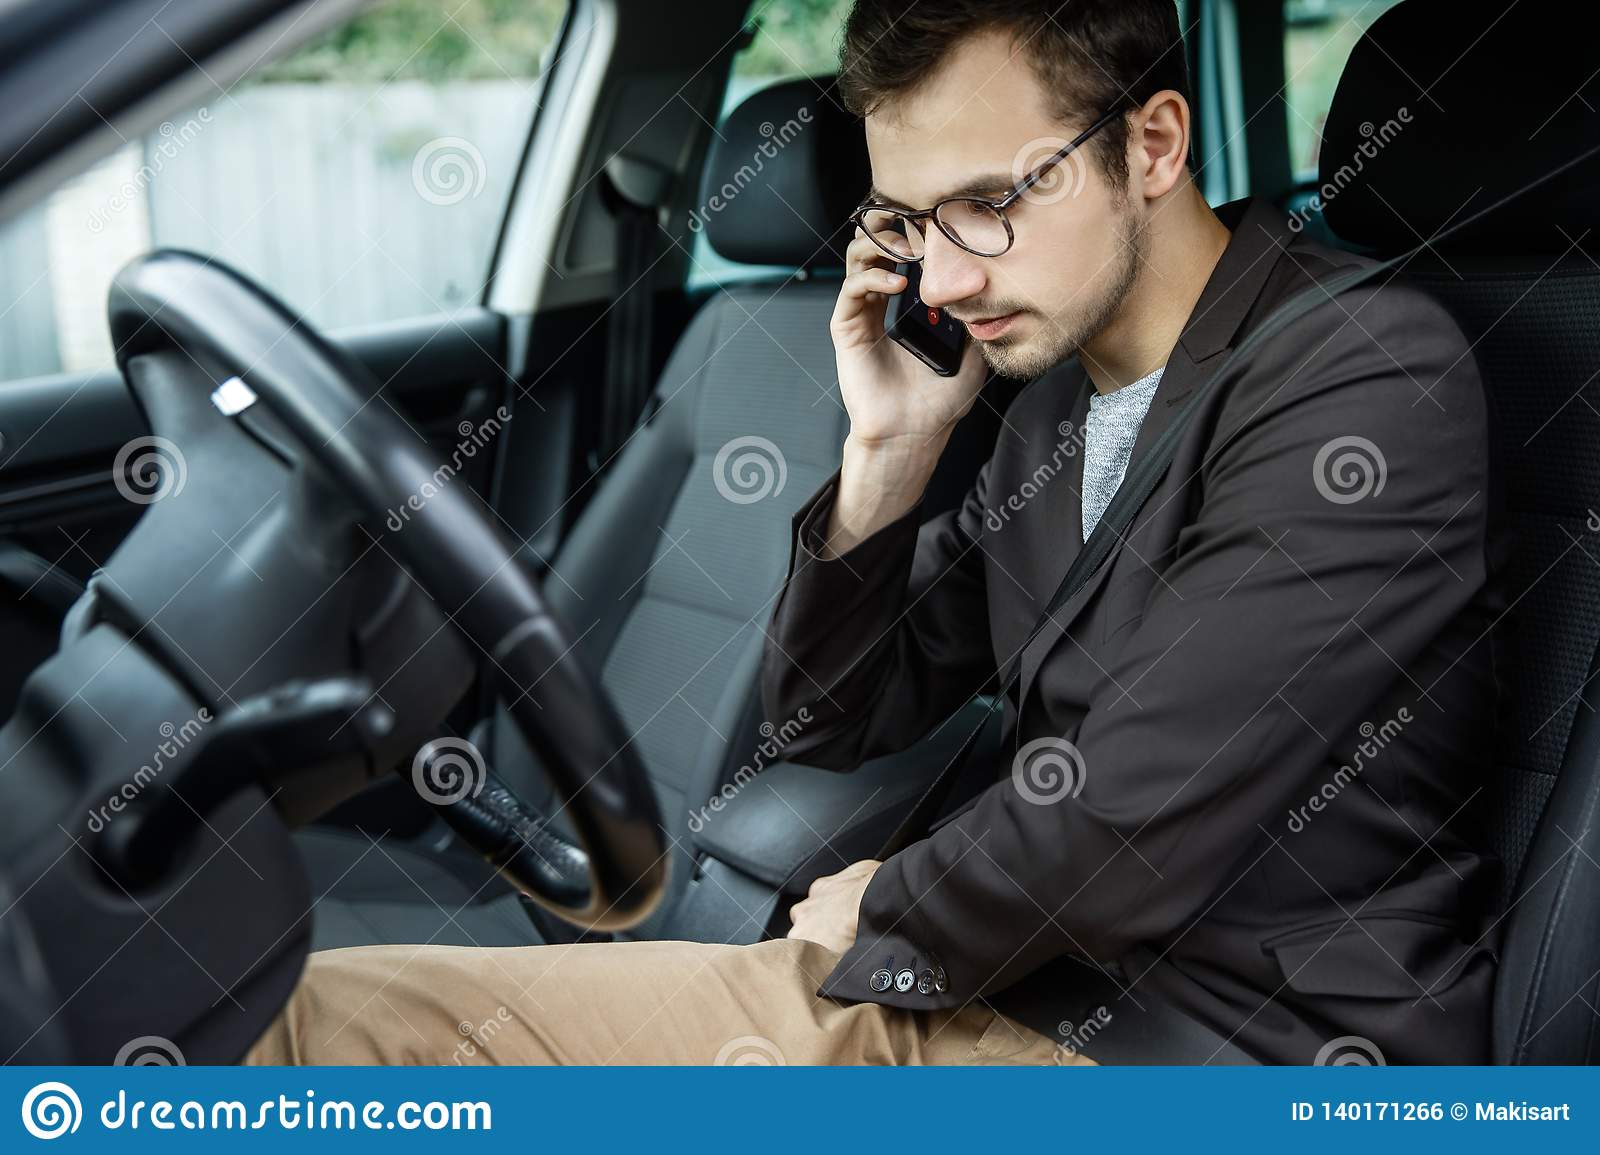talk: (830, 148, 1070, 500)
